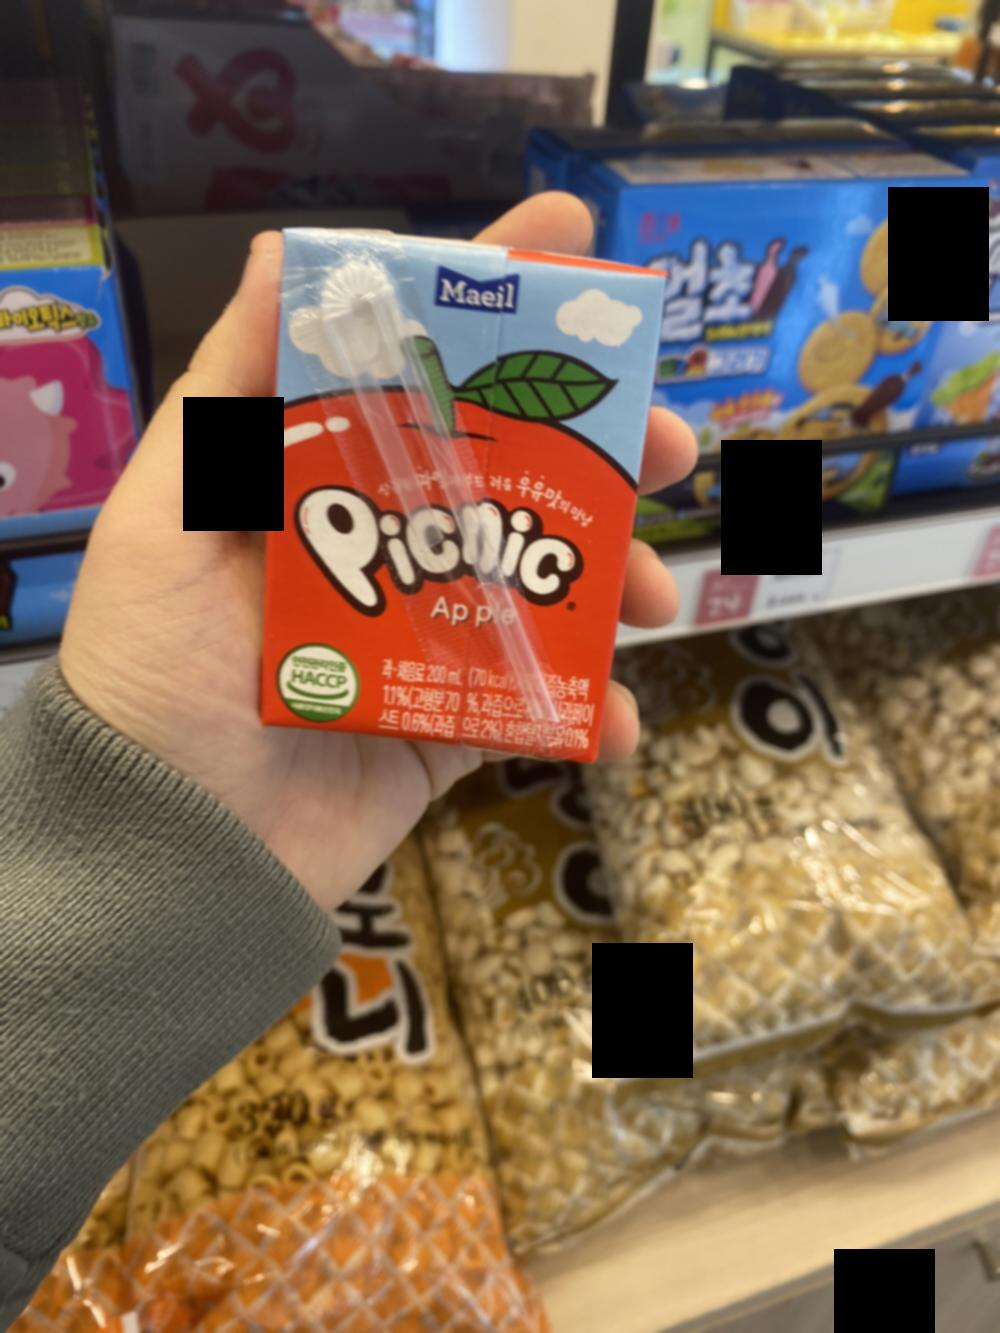picnic_apple: (261, 221, 629, 766)
